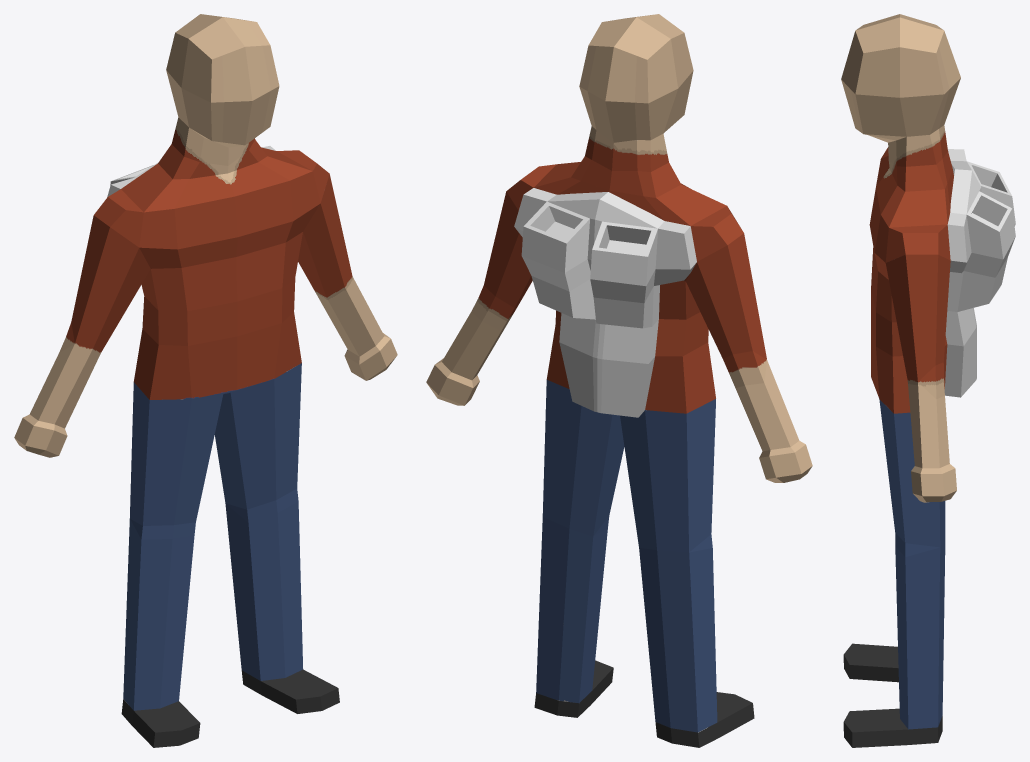
The model's file is RocketJumpCharacter.fbx.
3 views of the same model, side by side, from view 1: azimuth 30°, elevation 25°; view 2: azimuth 150°, elevation 25°; view 3: azimuth 270°, elevation 25° (orthographic).
Visible parts, largest first — view 1: Character; view 2: Character; view 3: Character.
Boxes of the visible parts, bbox=[...] form: Character: bbox=[14, 14, 397, 747]; Character: bbox=[426, 14, 812, 747]; Character: bbox=[841, 14, 1015, 747].
Bounding box in the file's own units: 239 × 1037 × 585.
Materials: 2 (1 with a texture image).
